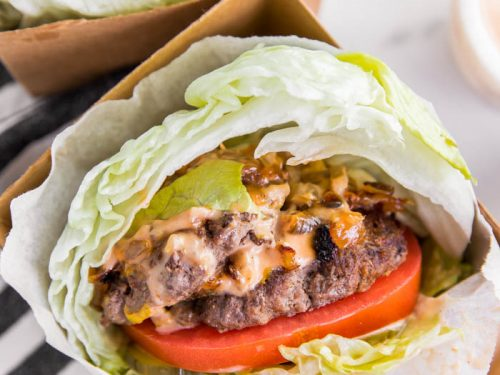hamburger_buns: (110, 16, 329, 87)
